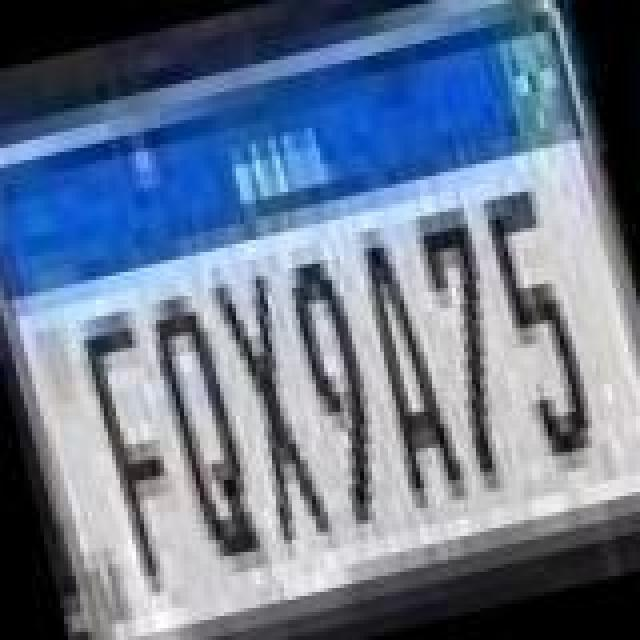5: (476, 180, 604, 476)
7: (408, 200, 536, 496)
9: (278, 250, 402, 534)
A: (344, 230, 472, 522)
F: (74, 314, 198, 606)
Q: (146, 294, 270, 570)
X: (206, 260, 338, 556)
